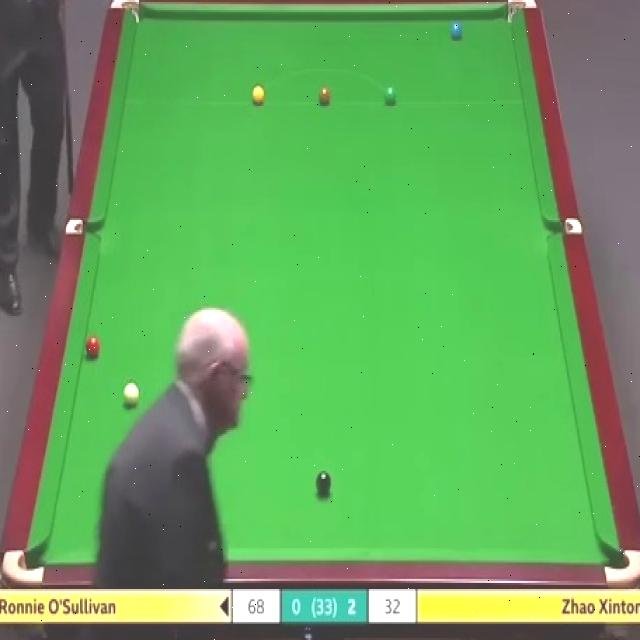black-ball: (314, 469, 332, 496)
blue-ball: (449, 21, 463, 39)
brown-ball: (317, 84, 332, 106)
green-ball: (382, 85, 397, 106)
red-ball: (85, 336, 102, 359)
white-ball: (122, 381, 139, 408)
yellow-ball: (251, 83, 265, 105)
